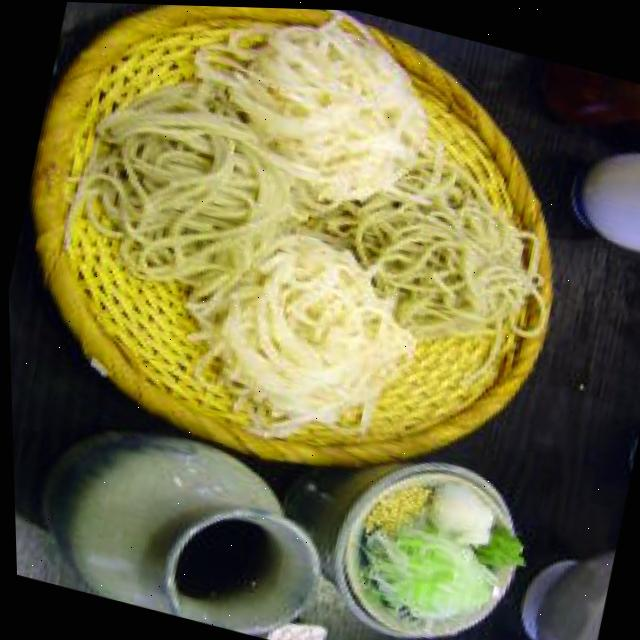面条主食: (0, 0, 618, 536)
